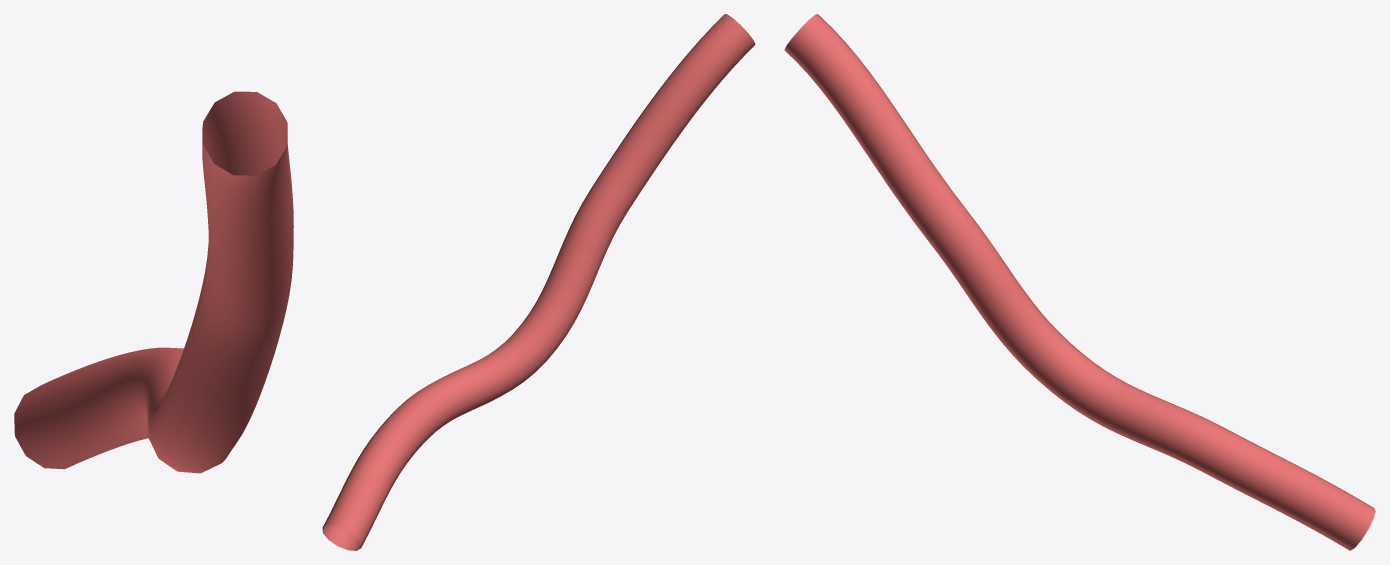
The model's file is Deep_plantar_artery.l_BezierCurve.362.glb.
3 renders of one model, left to right at view 1: azimuth 30°, elevation 25°; view 2: azimuth 150°, elevation 25°; view 3: azimuth 270°, elevation 25°, orthographic. The views are drawn at different scales.
Visible parts, largest first — view 1: Deep_plantar_artery.l_BezierCurve.362; view 2: Deep_plantar_artery.l_BezierCurve.362; view 3: Deep_plantar_artery.l_BezierCurve.362.
Part boxes in pixels (bbox=[...]): Deep_plantar_artery.l_BezierCurve.362: bbox=[14, 91, 293, 473]; Deep_plantar_artery.l_BezierCurve.362: bbox=[322, 14, 755, 550]; Deep_plantar_artery.l_BezierCurve.362: bbox=[784, 14, 1375, 550].
Bounding box in the file's own units: 0.00896 × 0.018 × 0.0214.
